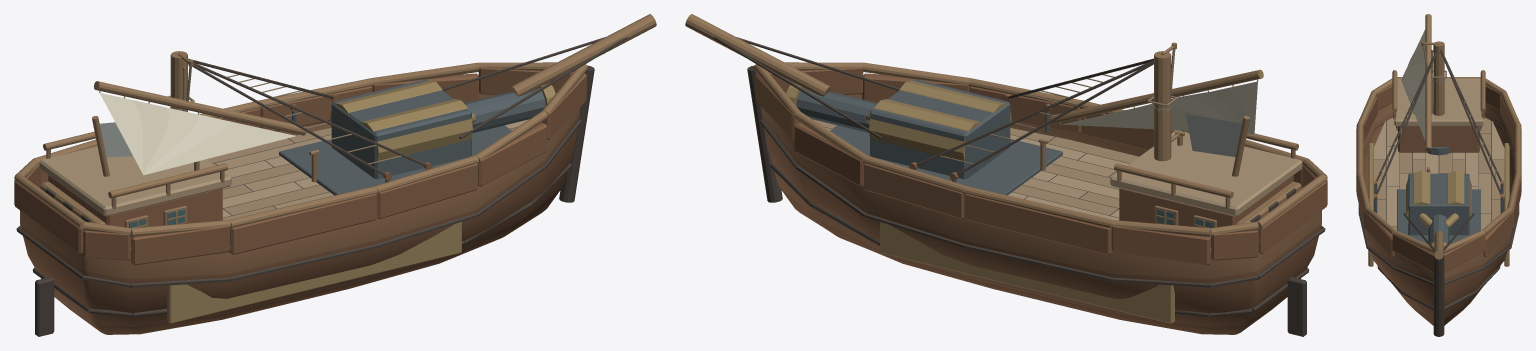
The model's file is fireShip.glb.
3 renders of one model, left to right at view 1: azimuth 30°, elevation 25°; view 2: azimuth 150°, elevation 25°; view 3: azimuth 270°, elevation 25°, orthographic. The views are drawn at different scales.
Parts seen in each view (by area): view 1: Hull, Gun, Sail_mast0_main, Rig_mast0, OwnerFlag; view 2: Hull, Gun, Sail_mast0_main, Rig_mast0, OwnerFlag; view 3: Hull, Gun, Sail_mast0_main, Rig_mast0.
Part boxes in pixels (x1=…): Hull: x1=14, y1=14, x2=656, y2=336; Gun: x1=330, y1=79, x2=555, y2=179; Sail_mast0_main: x1=100, y1=93, x2=295, y2=175; Rig_mast0: x1=94, y1=53, x2=306, y2=135; OwnerFlag: x1=100, y1=122, x2=132, y2=157; Hull: x1=685, y1=14, x2=1327, y2=336; Gun: x1=786, y1=79, x2=1011, y2=179; Sail_mast0_main: x1=1061, y1=81, x2=1257, y2=134; Rig_mast0: x1=1050, y1=42, x2=1263, y2=142; OwnerFlag: x1=1186, y1=114, x2=1241, y2=157; Hull: x1=1356, y1=41, x2=1521, y2=336; Gun: x1=1406, y1=171, x2=1471, y2=246; Sail_mast0_main: x1=1401, y1=29, x2=1425, y2=140; Rig_mast0: x1=1421, y1=14, x2=1446, y2=151.
Size of the model in its own units: 184 by 70.7 by 62.8.
